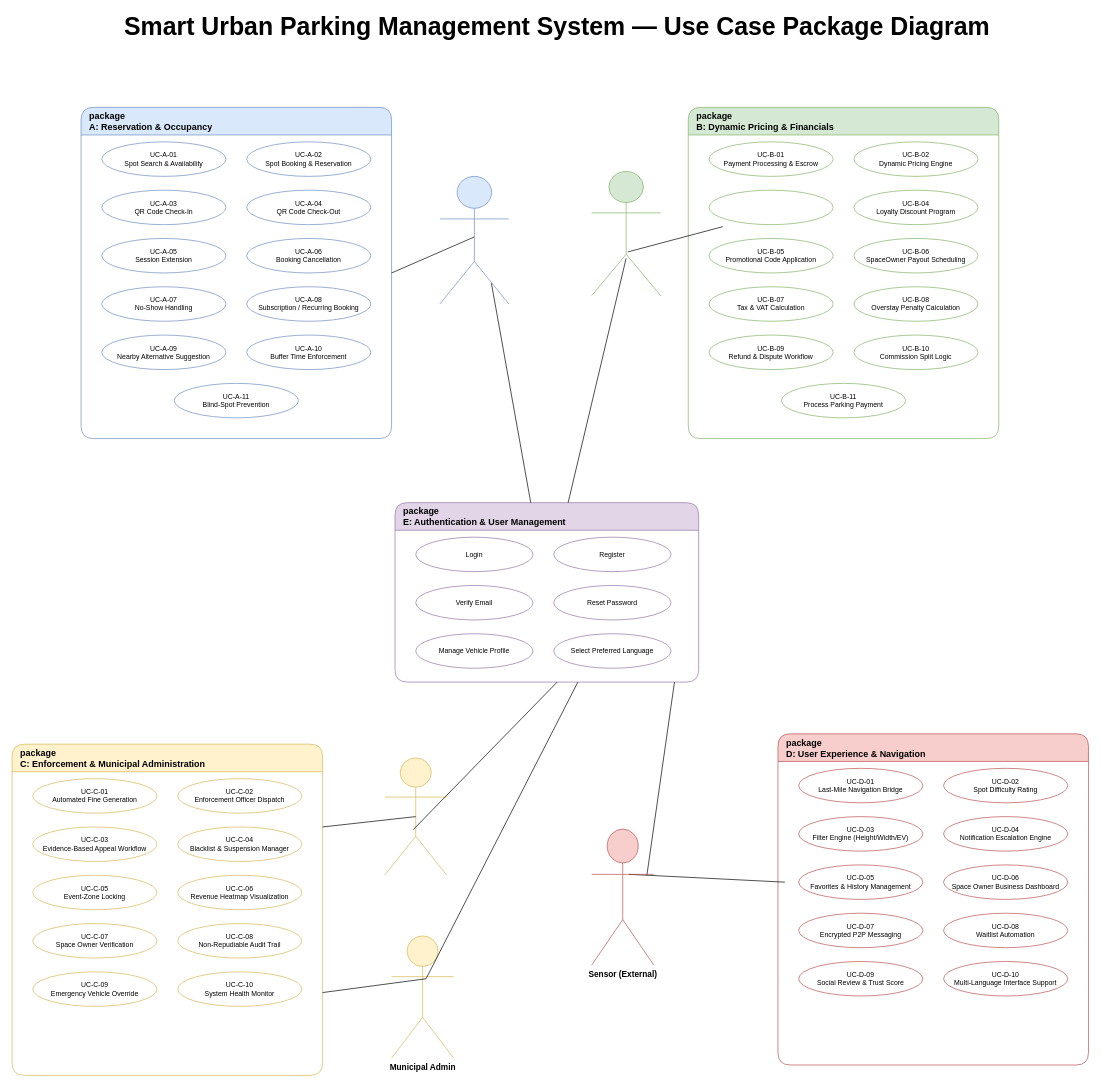
The diagram is 1101 pixels wide and 1087 high, and some of its shapes have lost their labels. Each missing label, with the centre of its shape:
Driver: (474,240)
Enforcement Officer: (415,816)
Space Owner: (626,233)
UC-B-03 Tiered Cancellation Refund: (770,207)
